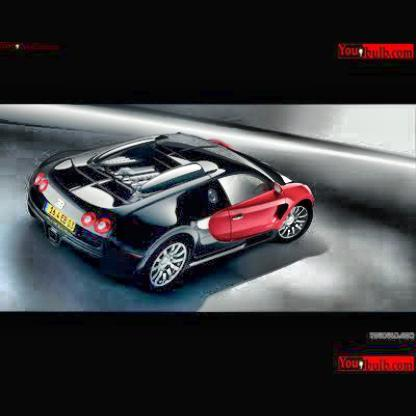Bugatti Veyron 16-4 Coupe 2009: (27, 132, 319, 297)
